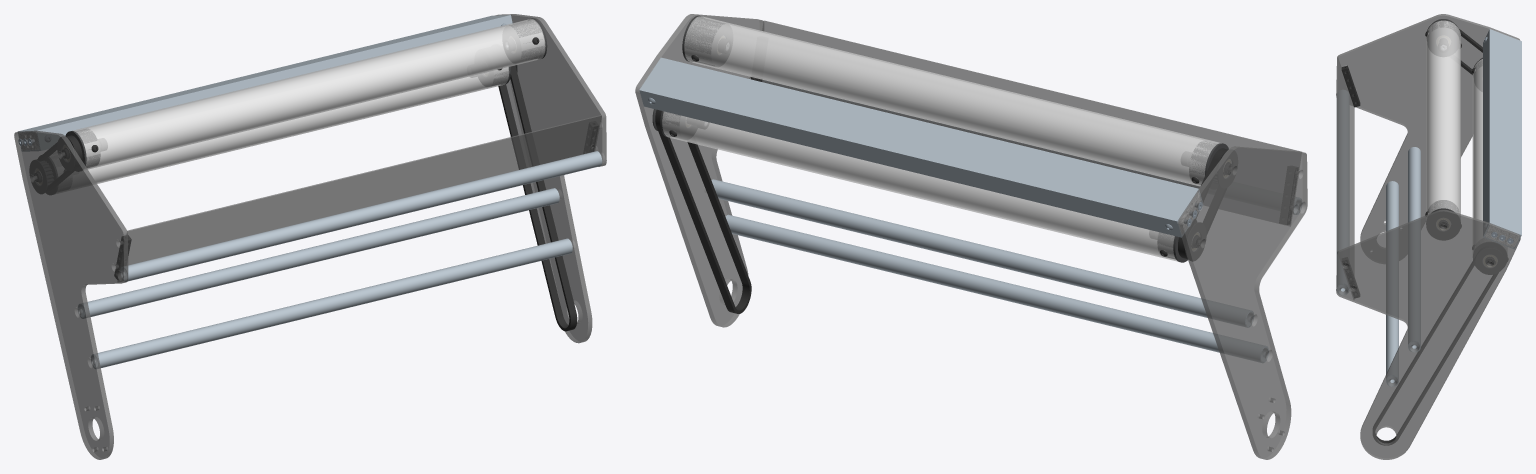
3 views of the same model, side by side, from view 1: azimuth 30°, elevation 25°; view 2: azimuth 150°, elevation 25°; view 3: azimuth 270°, elevation 25° (orthographic). The views are drawn at different scales.
Bounding box in the file's own units: 0.6794 × 0.3989 × 0.2701.
